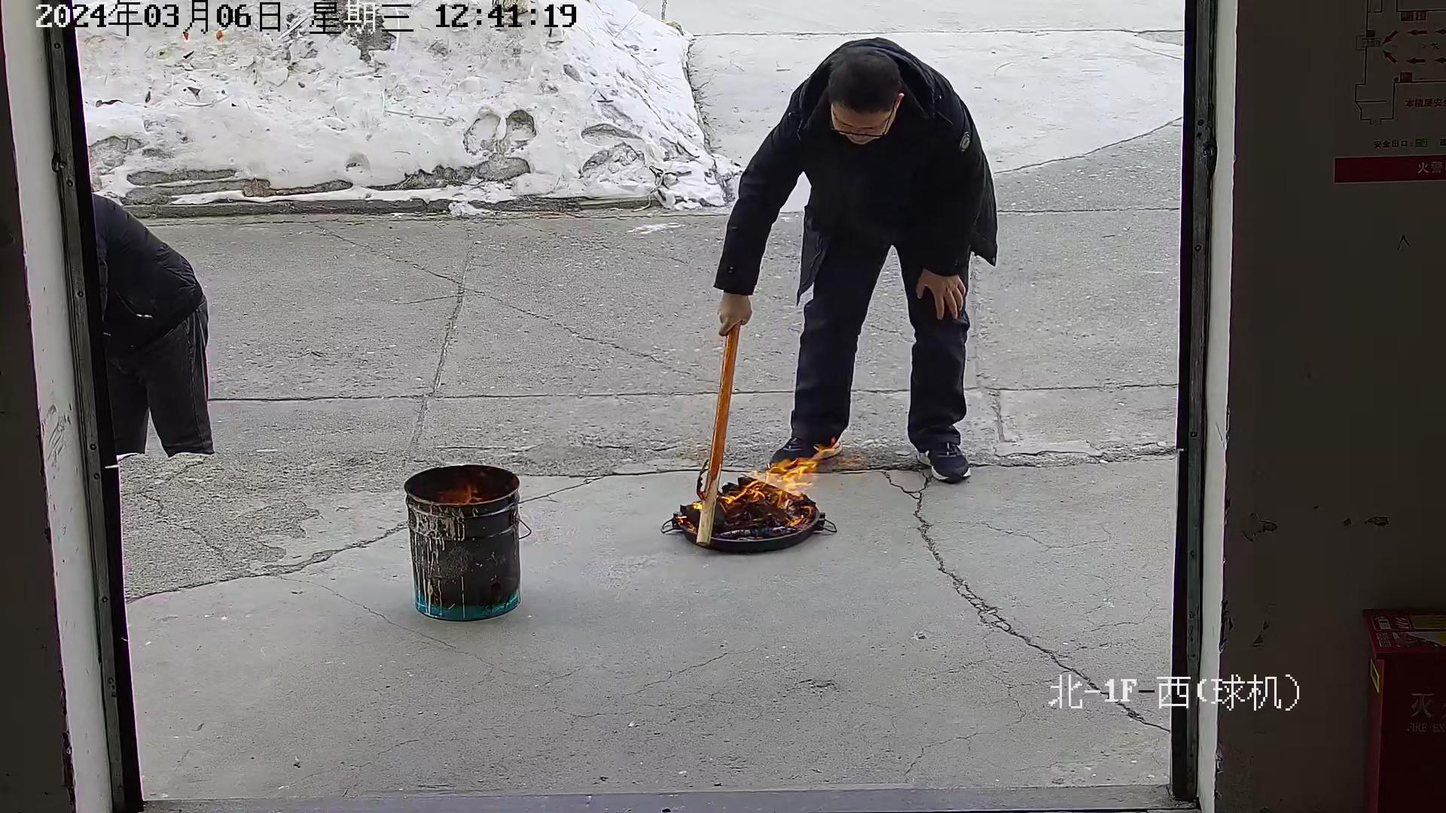fire: (712, 446, 865, 537), (676, 488, 707, 531)
